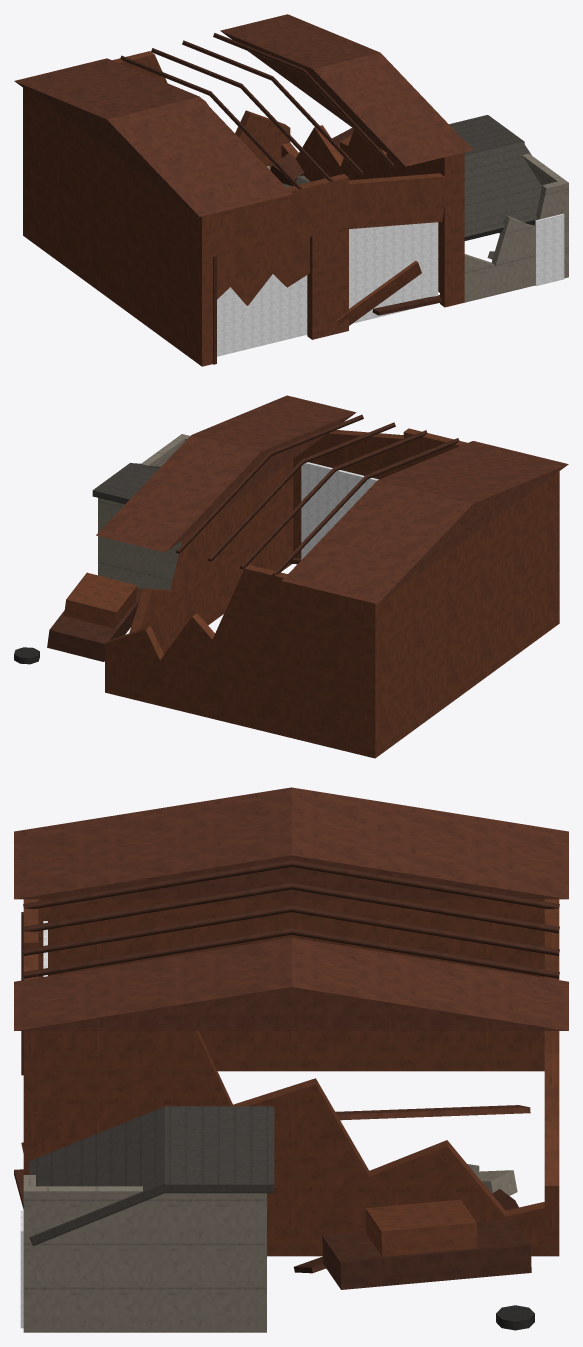
The picture shows the model from 3 angles, top to bottom: view 1: azimuth 30°, elevation 25°; view 2: azimuth 150°, elevation 25°; view 3: azimuth 270°, elevation 25°; orthographic projection. The views are drawn at different scales.
Parts seen in each view (by area): view 1: site_garage_ruin; view 2: site_garage_ruin; view 3: site_garage_ruin.
Part boxes in pixels (x1,y1,x2,y2): site_garage_ruin: (14, 14, 568, 366); site_garage_ruin: (14, 395, 568, 758); site_garage_ruin: (14, 787, 568, 1332).
Size of the model in its own units: 13.3 by 6.28 by 11.4.
8 materials, 8 textured.
